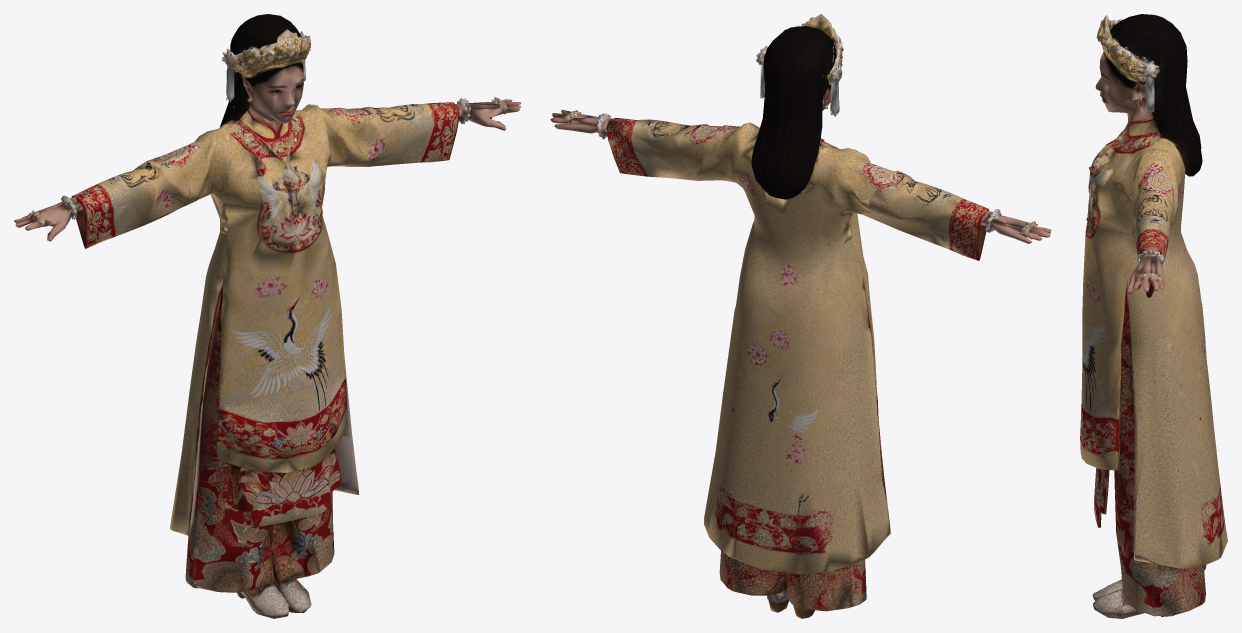
File: my-nuong.glb
3 renders of one model, left to right at view 1: azimuth 30°, elevation 25°; view 2: azimuth 150°, elevation 25°; view 3: azimuth 270°, elevation 25°, orthographic. The views are drawn at different scales.
Visible parts, largest first — view 1: tripo_node_1f5e2955-207c-4324-bd31-69ba63881d0b; view 2: tripo_node_1f5e2955-207c-4324-bd31-69ba63881d0b; view 3: tripo_node_1f5e2955-207c-4324-bd31-69ba63881d0b.
Boxes of the visible parts, x1,y1,x2,y2 form: tripo_node_1f5e2955-207c-4324-bd31-69ba63881d0b: [14, 14, 521, 618]; tripo_node_1f5e2955-207c-4324-bd31-69ba63881d0b: [550, 14, 1051, 618]; tripo_node_1f5e2955-207c-4324-bd31-69ba63881d0b: [1080, 14, 1227, 618].
Bounding box in the file's own units: 0.8857 × 0.9794 × 0.2216.
1 material, 1 textured.
